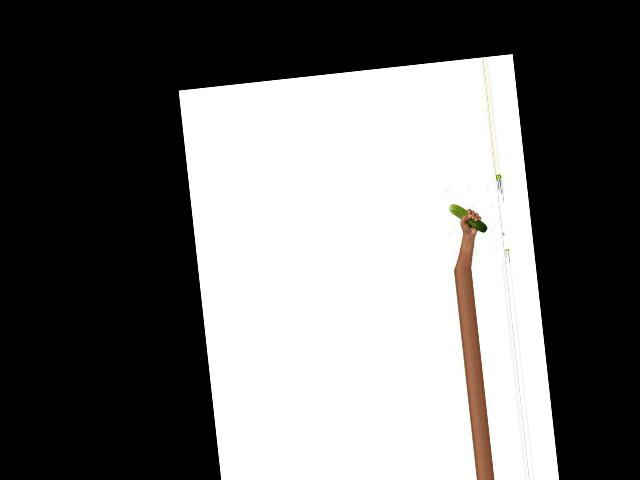cucumber: (449, 201, 488, 236)
